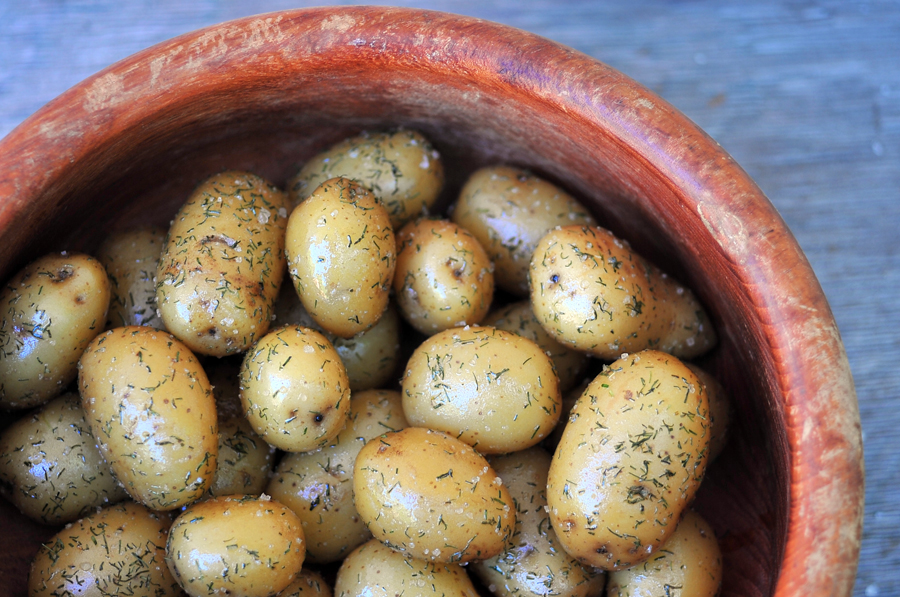boiled potatoes: (88, 252, 691, 568)
